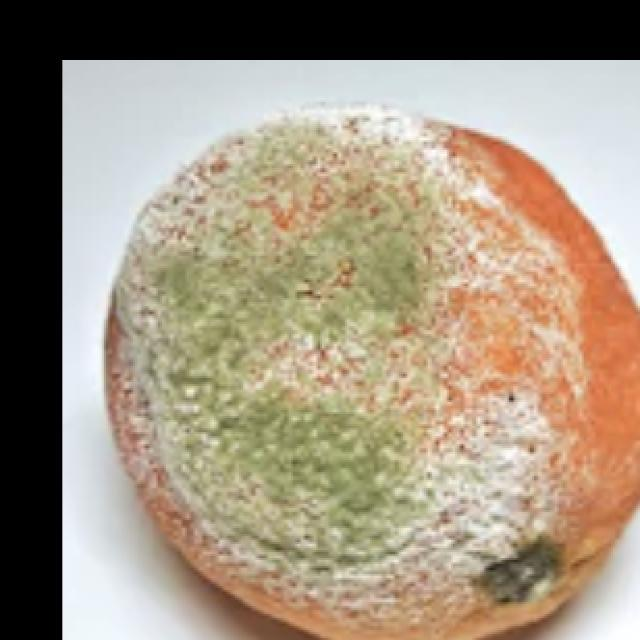sangat-busuk: (106, 107, 639, 639)
